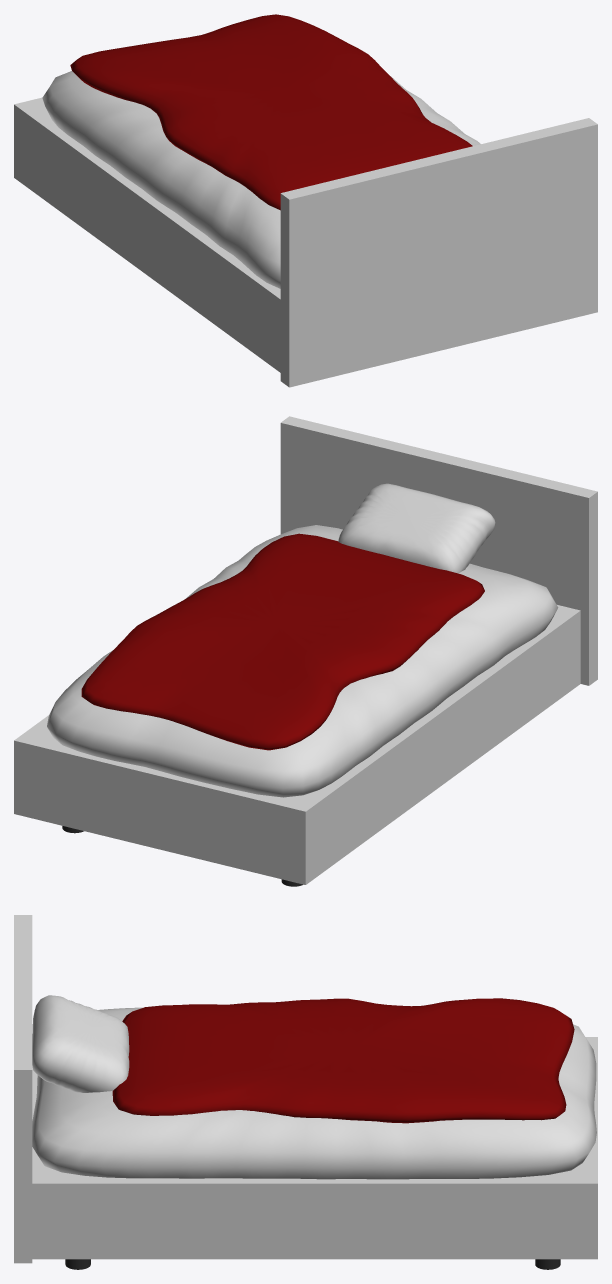
The model's file is Lit1_6.fbx.
3 views of the same model, one above another, from view 1: azimuth 30°, elevation 25°; view 2: azimuth 150°, elevation 25°; view 3: azimuth 270°, elevation 25° (orthographic). The views are drawn at different scales.
Visible parts, largest first — view 1: pCube2134, pCylinder1817, pCube2135, pCylinder1506; view 2: pCylinder1817, pCube2135, pCylinder1506, pCube2134, pCylinder1507; view 3: pCylinder1817, pCube2135, pCylinder1506, pCylinder1507, pCube2134, pCylinder1508.
Boxes of the visible parts, <box> form: pCube2134: <box>280,118,597,387</box>; pCylinder1817: <box>70,14,472,210</box>; pCube2135: <box>14,97,280,372</box>; pCylinder1506: <box>42,71,480,288</box>; pCylinder1817: <box>81,533,484,750</box>; pCube2135: <box>14,605,580,884</box>; pCylinder1506: <box>47,525,558,797</box>; pCube2134: <box>280,416,597,685</box>; pCylinder1507: <box>338,483,495,573</box>; pCylinder1817: <box>112,998,574,1123</box>; pCube2135: <box>32,1037,597,1259</box>; pCylinder1506: <box>32,1007,596,1179</box>; pCylinder1507: <box>32,995,129,1092</box>; pCube2134: <box>14,915,32,1263</box>; pCylinder1508: <box>65,1259,560,1269</box>.
Bounding box in the file's own units: 89.96 × 58.72 × 143.
